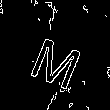M_N: (24, 23, 86, 87)
